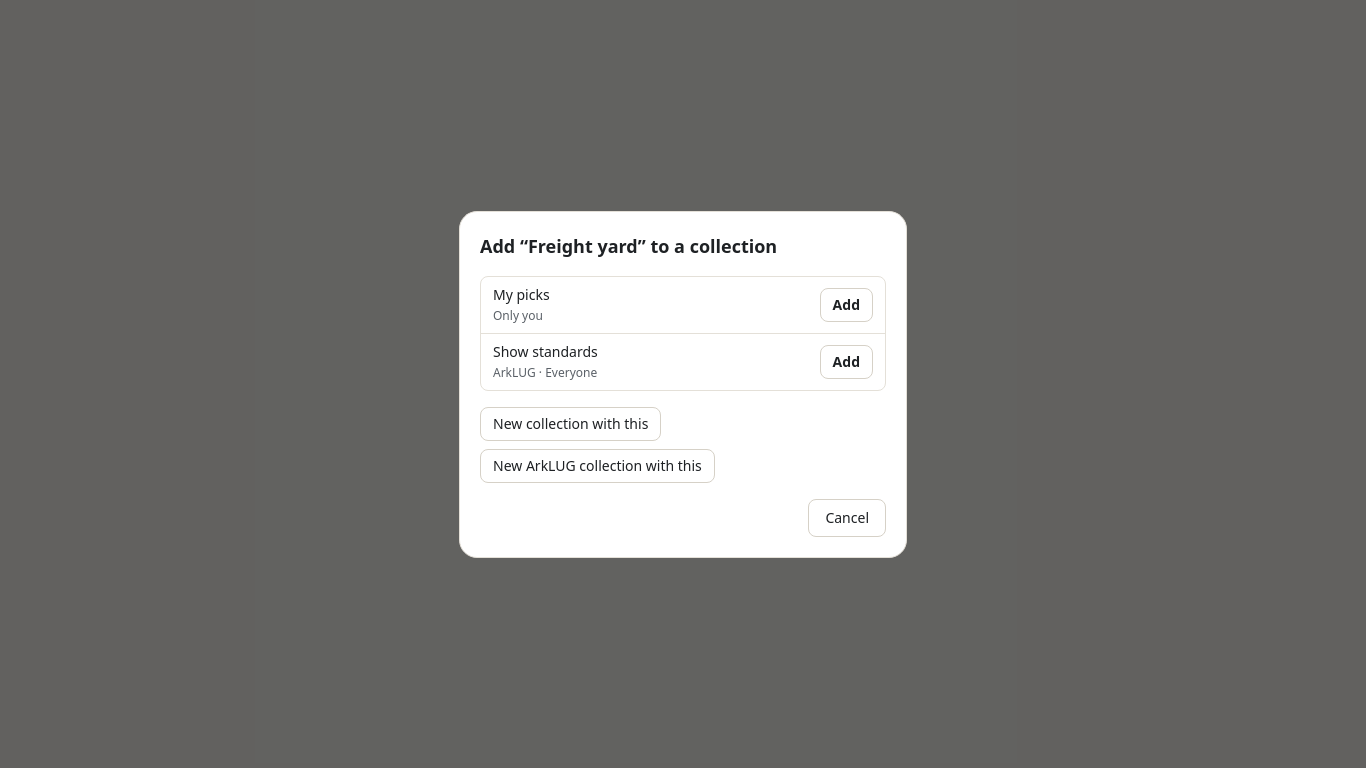
Scenario: Add to a collection… › a catalog item: every collection you curate; adding shows a note with Open collection
Check: the text "Show standards" is shown, box [493,342,598,360]
Check: the button "New ArkLUG collection with this" is shown, box [480,448,715,482]
What coordinates should you click on to do the following:
click the button with aria-label "Add to Show standards"
I would click on:
 (846, 362)
Its box is [820,344,873,378].
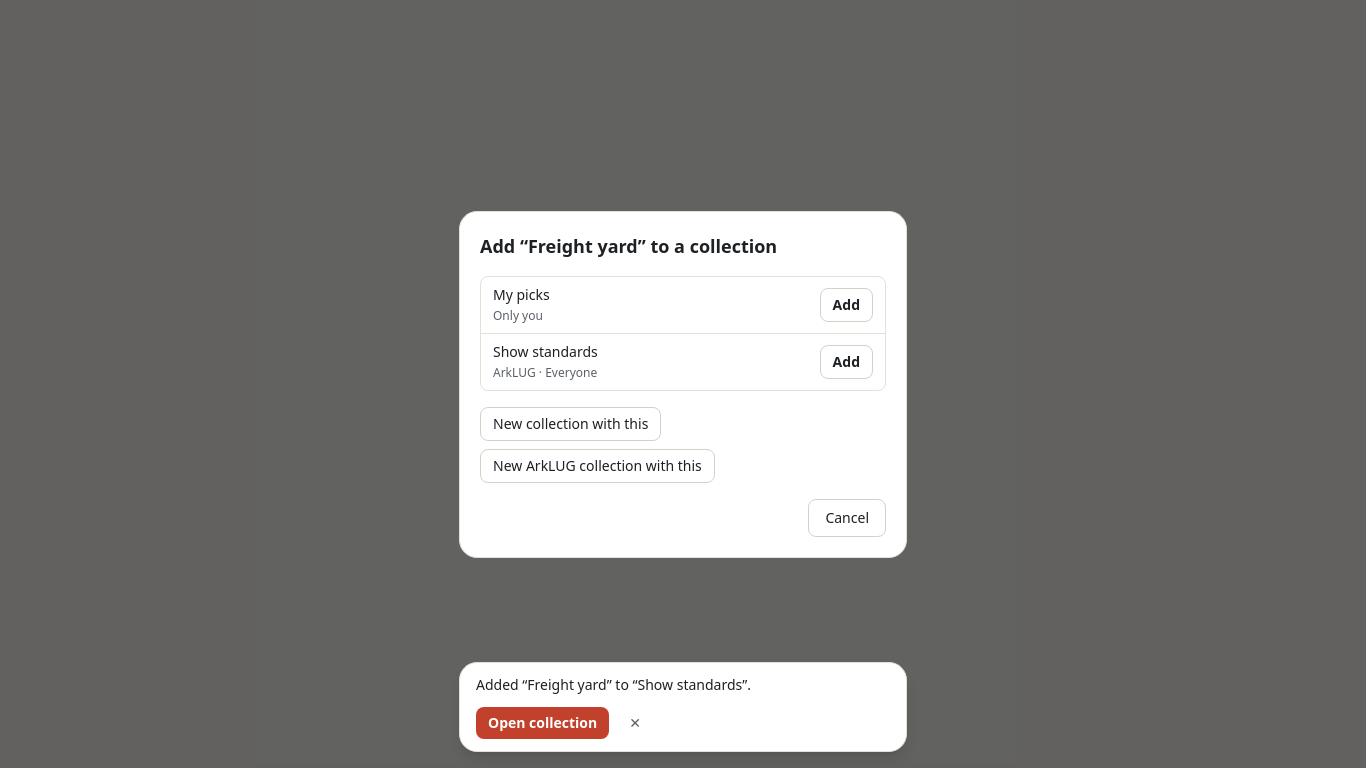
Check: the message with test id "collection-toast" shows "Added “Freight yard” to “Show standards”.", box [476,675,751,694]
